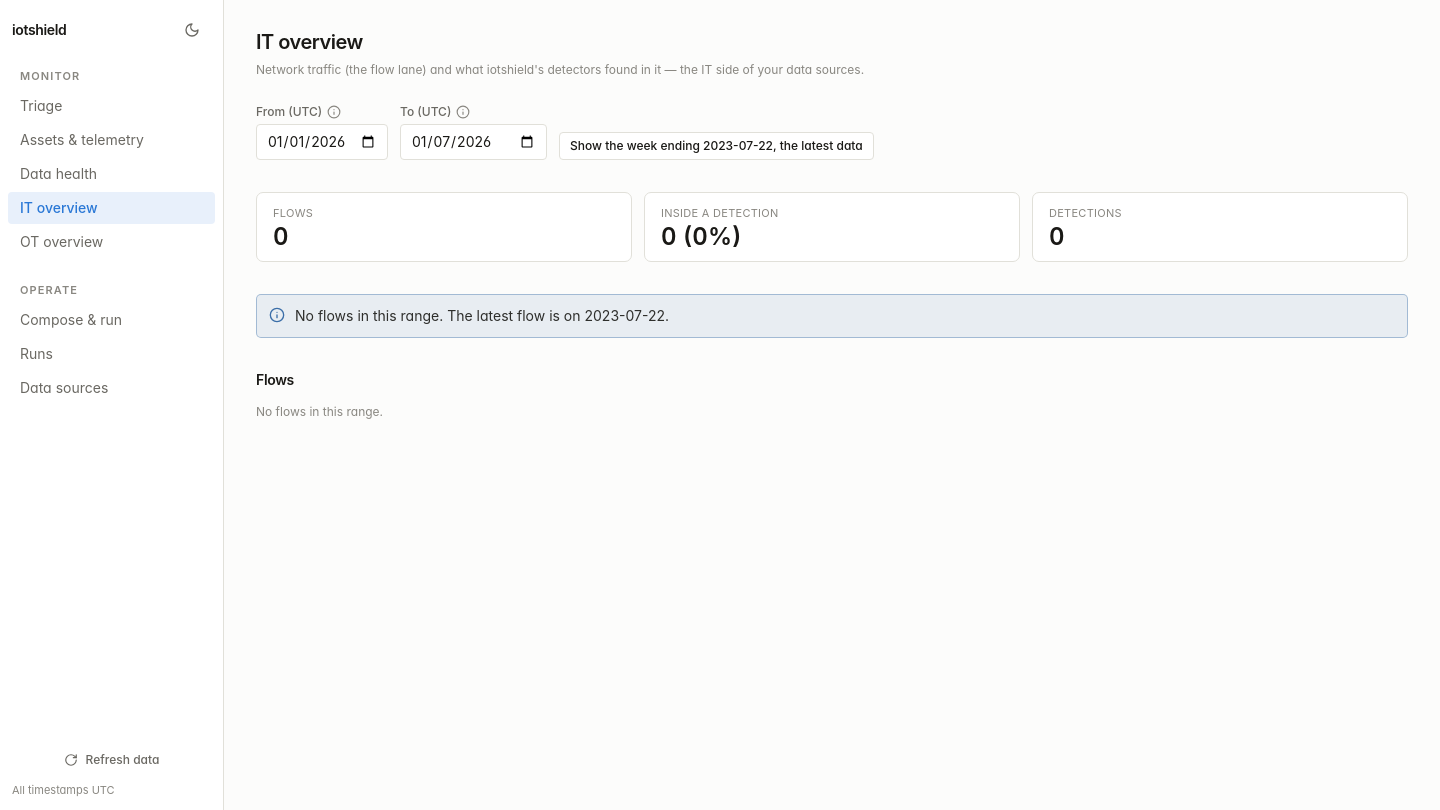
Test: IT overview › offers to jump to the latest data when the range holds none of it
Click the button with test id "range_latest" at (716, 146), box top-left (559, 132), bottom-right (874, 160)
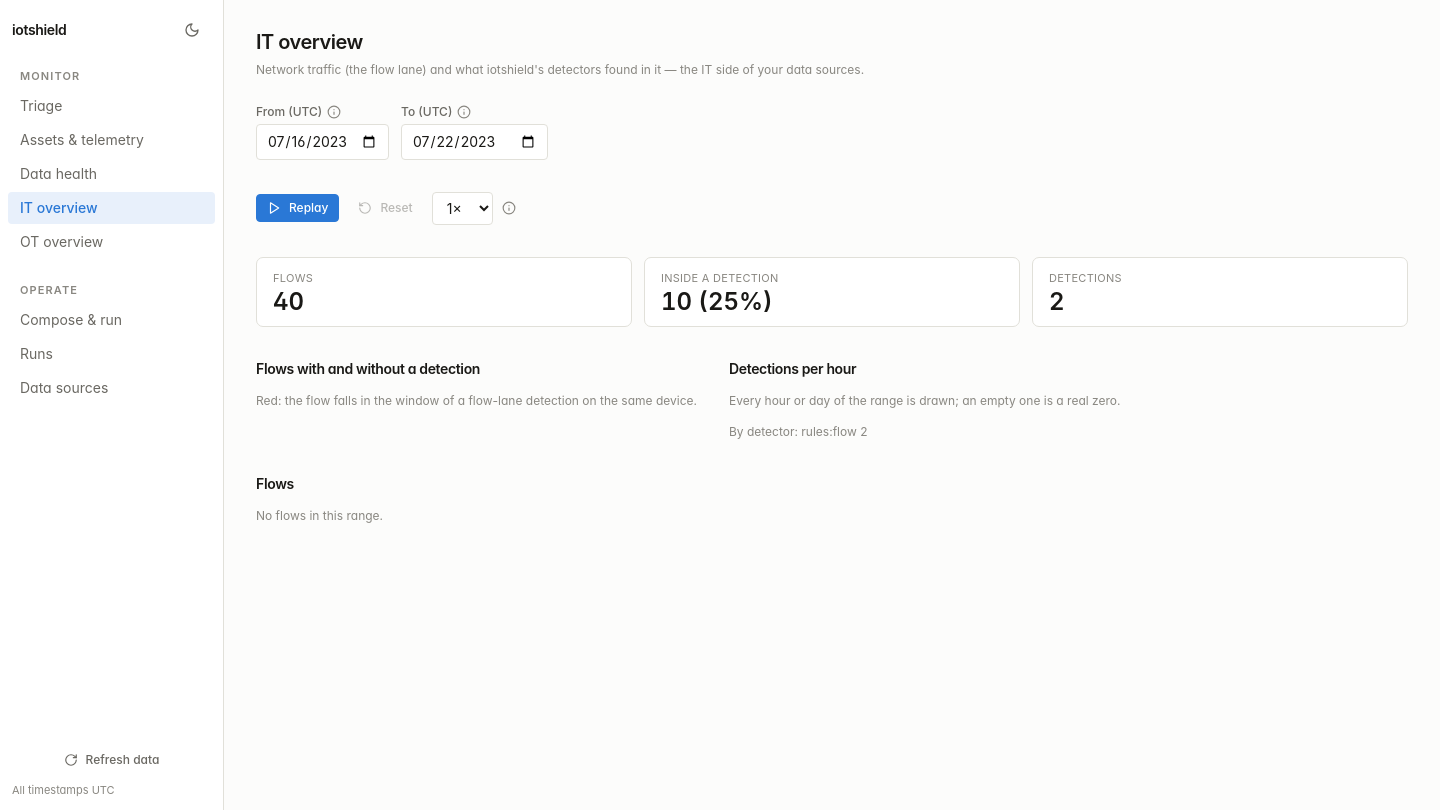
Check: the button with test id "range_latest" is gone
